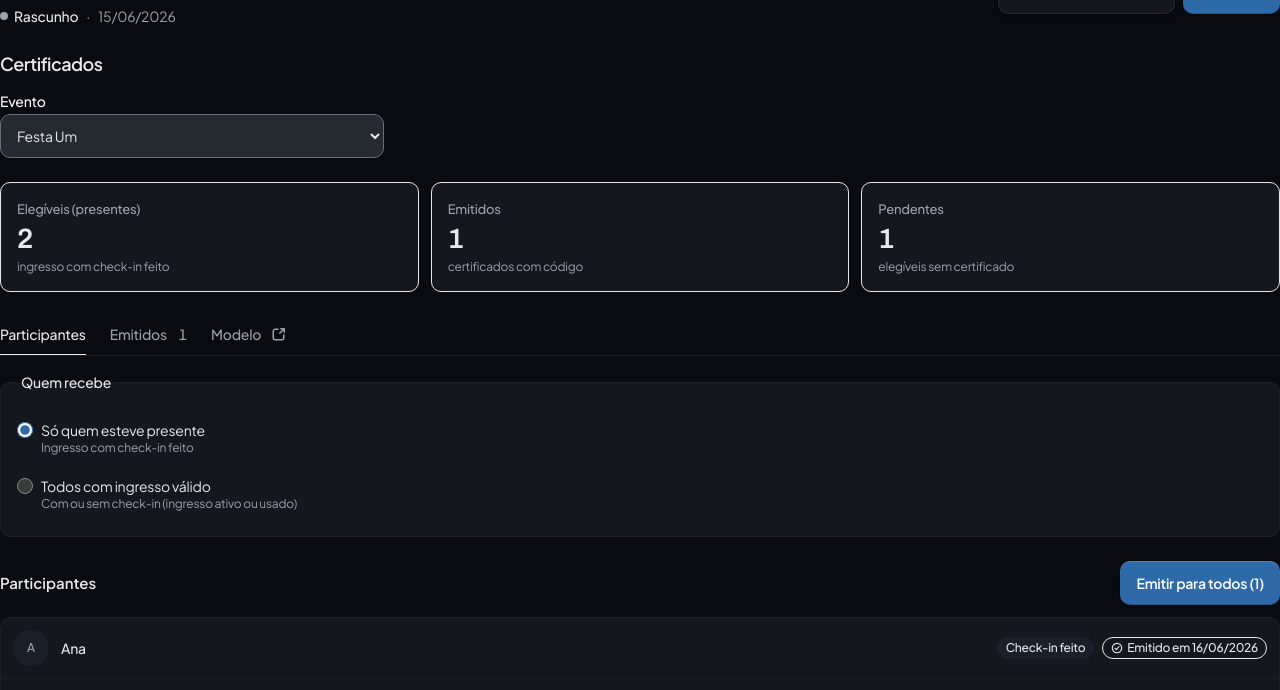
Test: tela Certificados › a aba Modelo leva ao editor do mesmo evento
The width and height of the screenshot is (1280, 690).
Click the tab "Modelo".
click(249, 334)  # box x1=211 y1=312 x2=287 y2=356
(page scrolled)
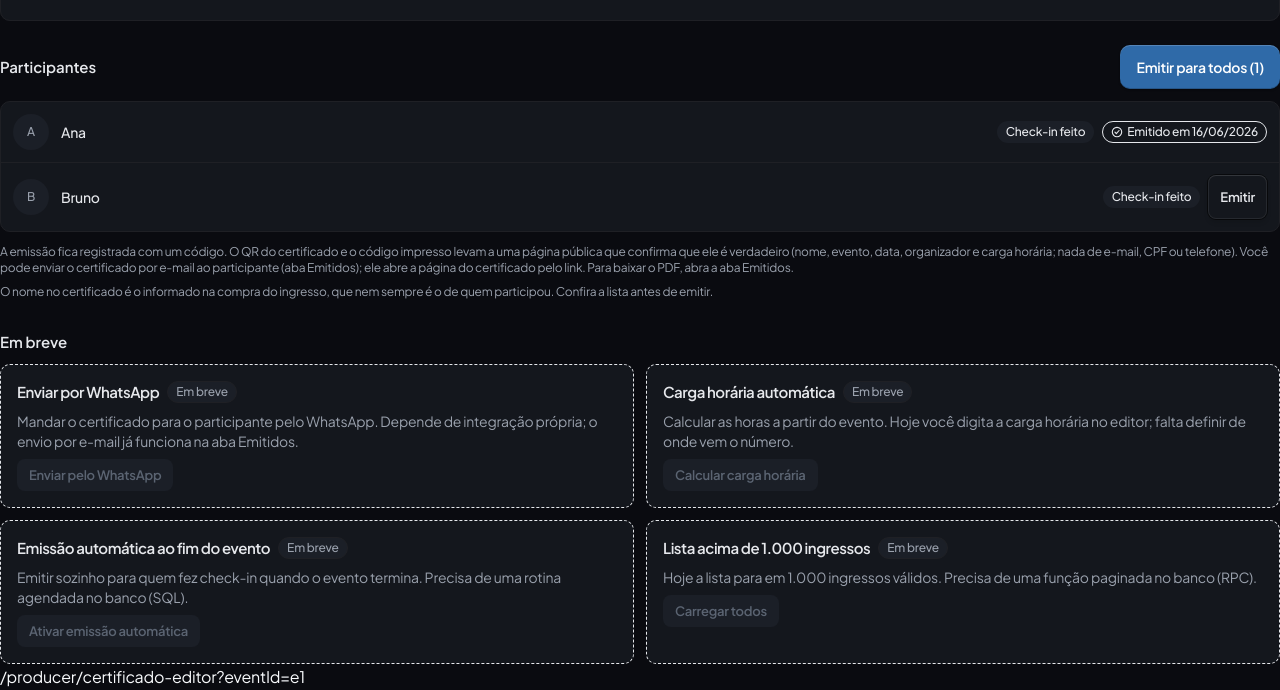
Expected: the text with test id "url" reads "/producer/certificado-editor?eventId=e1", x1=0 y1=666 x2=305 y2=687
